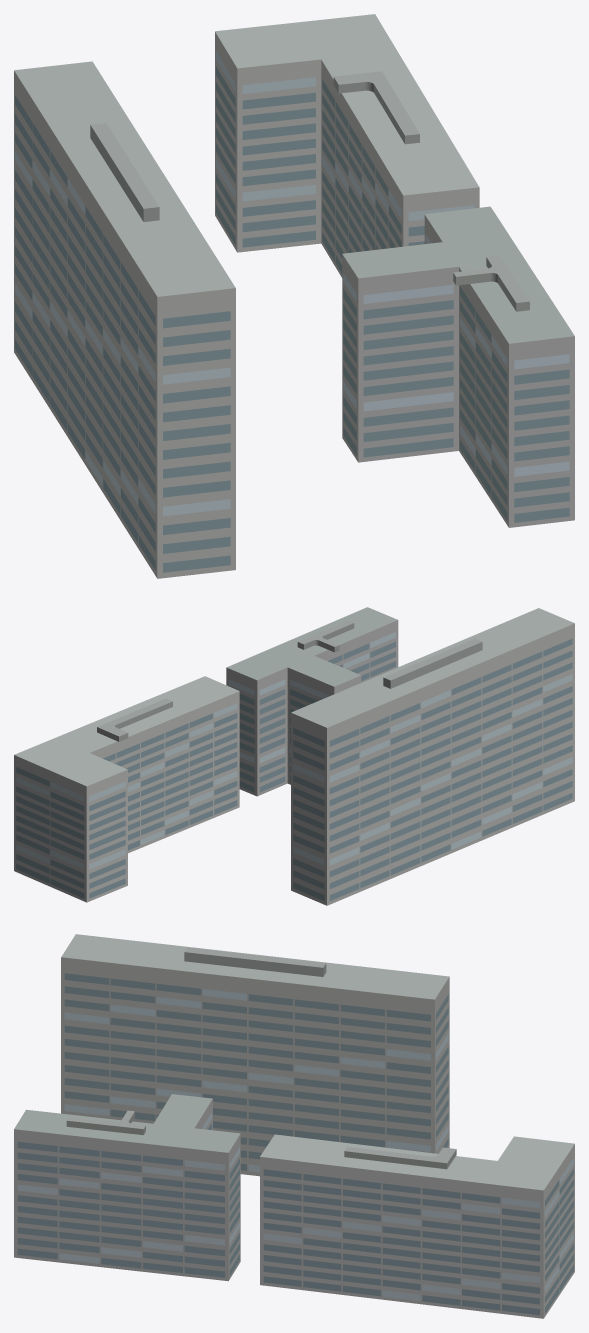
The model's file is apt-a13486701.glb.
The picture shows the model from 3 angles, top to bottom: view 1: azimuth 30°, elevation 25°; view 2: azimuth 150°, elevation 25°; view 3: azimuth 270°, elevation 25°; orthographic projection. The views are drawn at different scales.
Parts seen in each view (by area): view 1: apt-a13486701; view 2: apt-a13486701; view 3: apt-a13486701.
Boxes of the visible parts, box(x1,y1,x2,y2) form: apt-a13486701: box(14, 14, 574, 578); apt-a13486701: box(14, 607, 574, 905); apt-a13486701: box(14, 934, 574, 1318).
Bounding box in the file's own units: 96.1 × 49 × 121.
